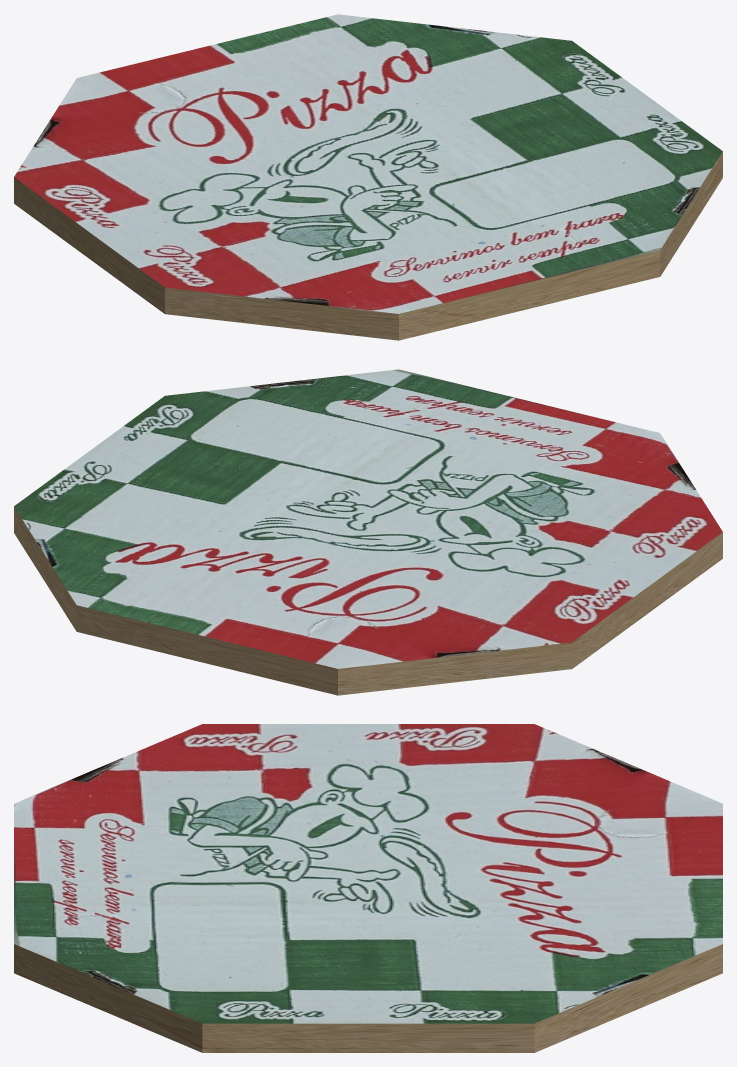
Rendered from pizzaprojetil.fbx.
3 renders of one model, top to bottom at view 1: azimuth 30°, elevation 25°; view 2: azimuth 150°, elevation 25°; view 3: azimuth 270°, elevation 25°, orthographic. The views are drawn at different scales.
Visible parts, largest first — view 1: Cube; view 2: Cube; view 3: Cube.
Boxes of the visible parts, bbox=[...] form: Cube: bbox=[14, 14, 722, 340]; Cube: bbox=[14, 369, 722, 695]; Cube: bbox=[14, 724, 722, 1052].
Size of the model in its own units: 200 by 9.14 by 200.
